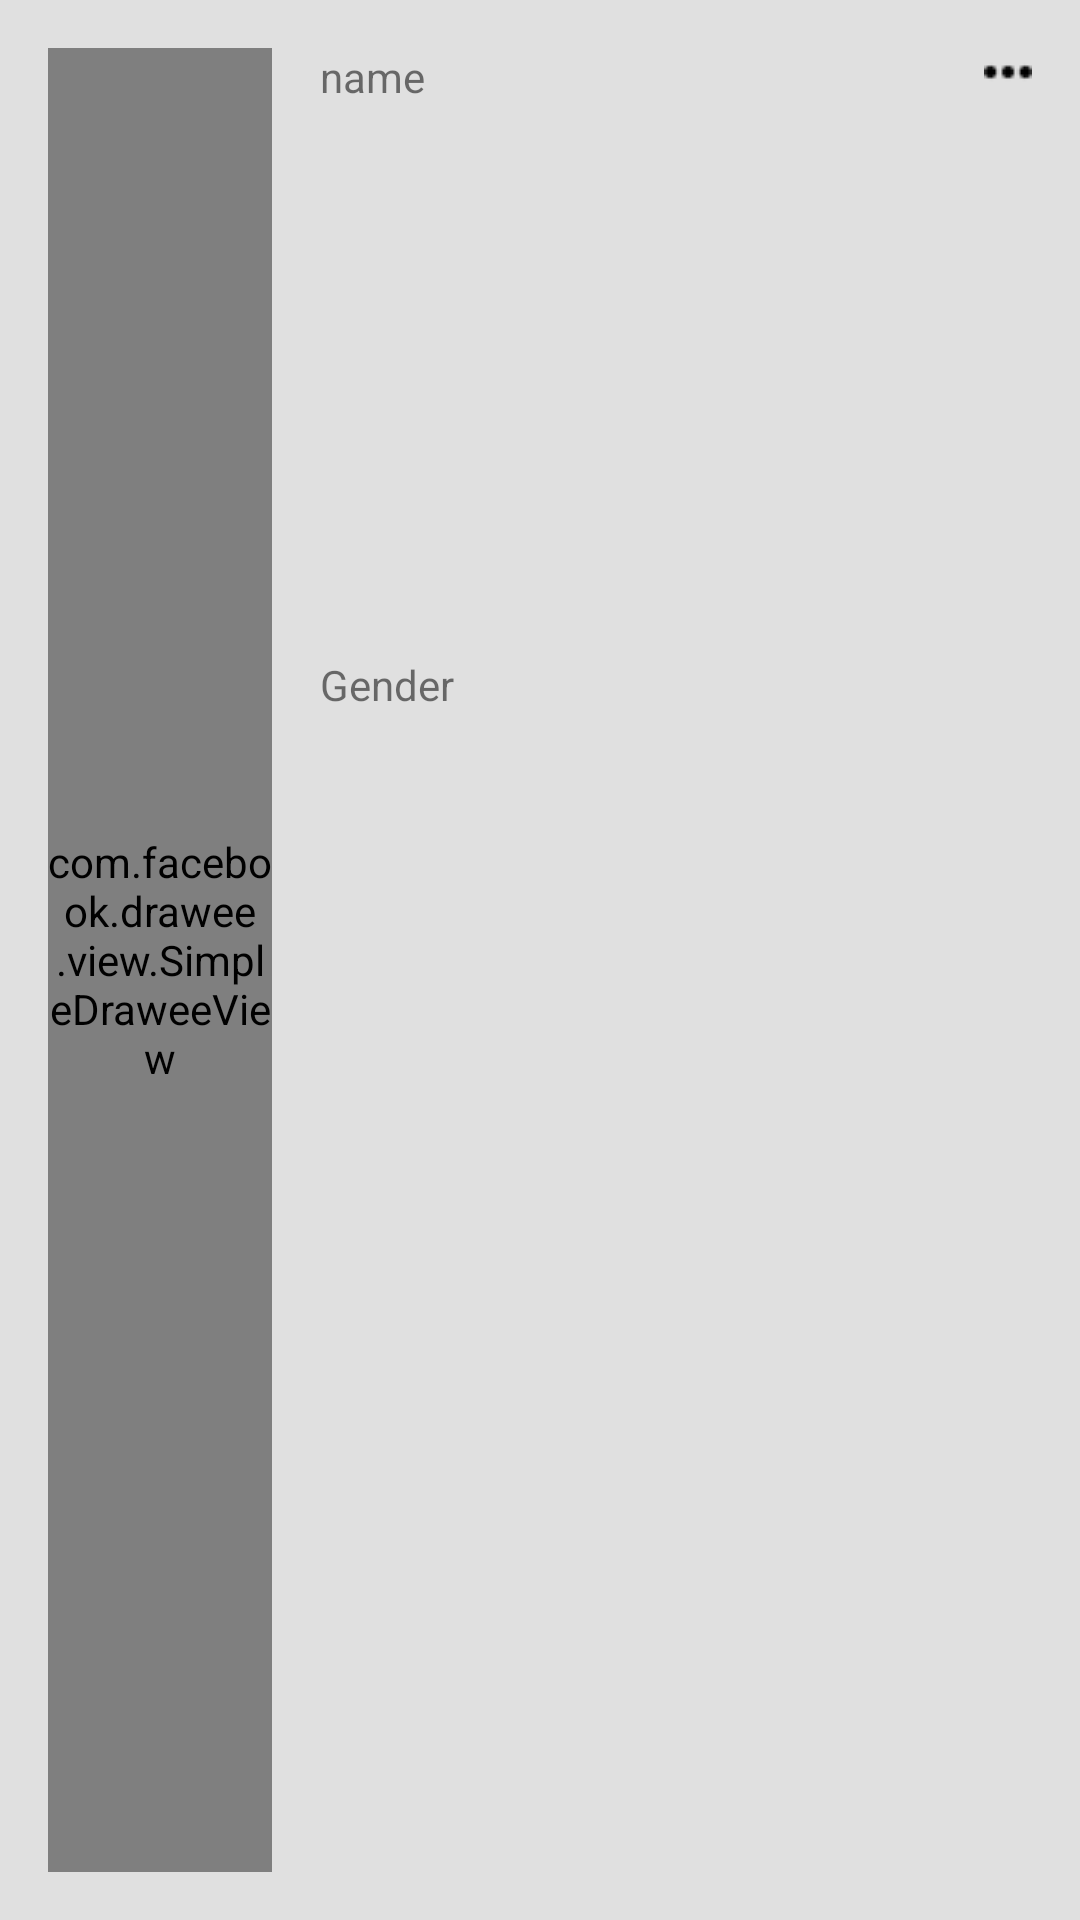

Icon bounding boxes for this 1080 x 1920 phone screenshot, format (x1, y1, x2, y2):
more: (984, 65, 1032, 79)
